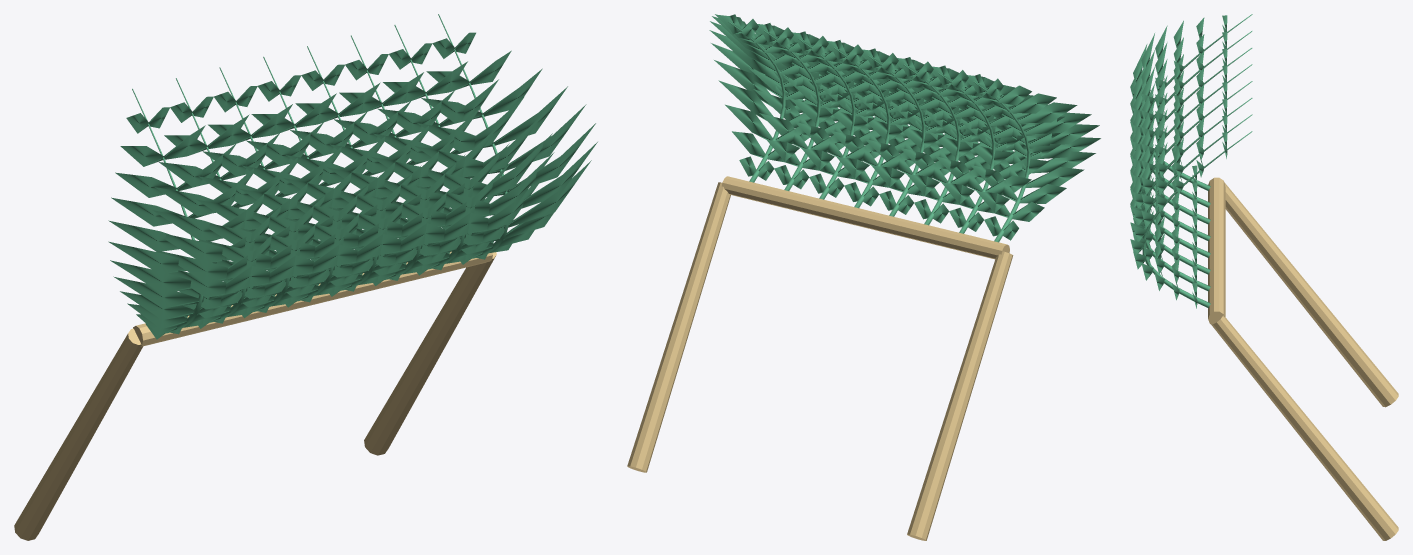
File: palm_frond_lean_to_tropical_island_and_palm_trees_6858.glb
The picture shows the model from 3 angles, left to right: view 1: azimuth 30°, elevation 25°; view 2: azimuth 150°, elevation 25°; view 3: azimuth 270°, elevation 25°; orthographic projection. The views are drawn at different scales.
Visible parts, largest first — view 1: palm-frond-leanto; view 2: palm-frond-leanto; view 3: palm-frond-leanto.
Part boxes in pixels (x1,y1,x2,y2): palm-frond-leanto: (14,14,597,540); palm-frond-leanto: (627,14,1100,540); palm-frond-leanto: (1130,14,1398,540).
Bounding box in the file's own units: 2.8 × 2.78 × 1.7.
